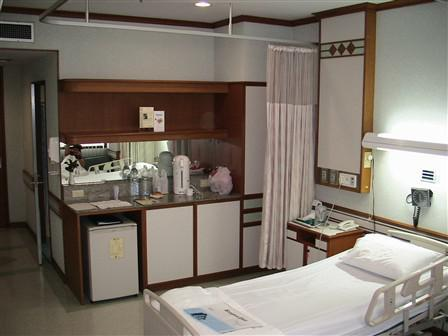Cama: (143, 239, 446, 330)
Electrodomestico: (87, 219, 139, 300)
Puerta: (25, 83, 53, 267)
